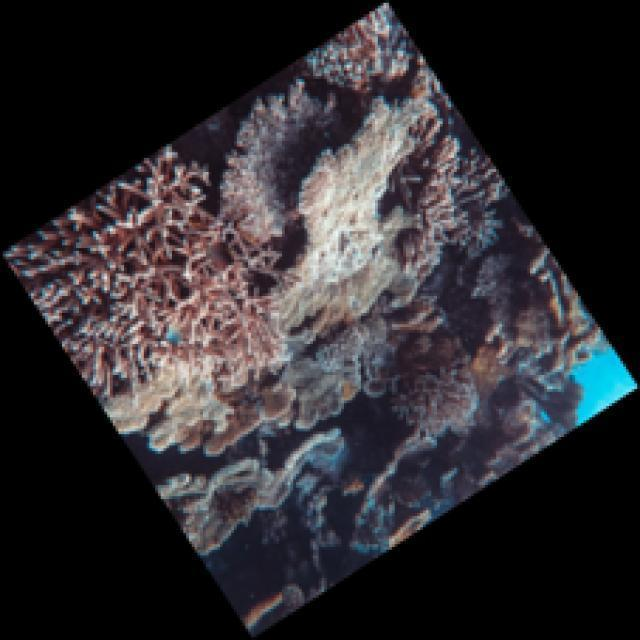Dead Coral: (22, 115, 224, 423), (162, 277, 389, 538), (221, 72, 478, 297), (346, 309, 488, 466)
